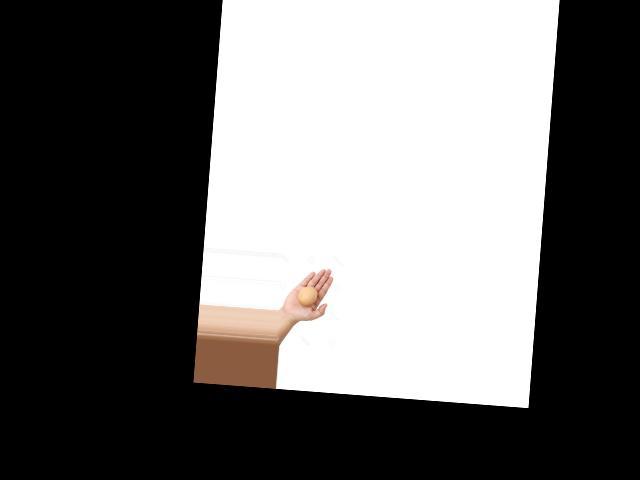egg: (296, 286, 317, 307)
